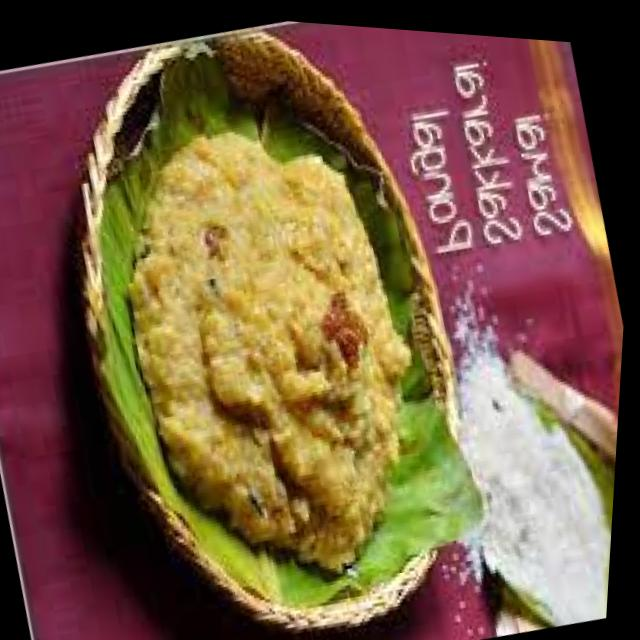PONGAL: (131, 133, 411, 567)
